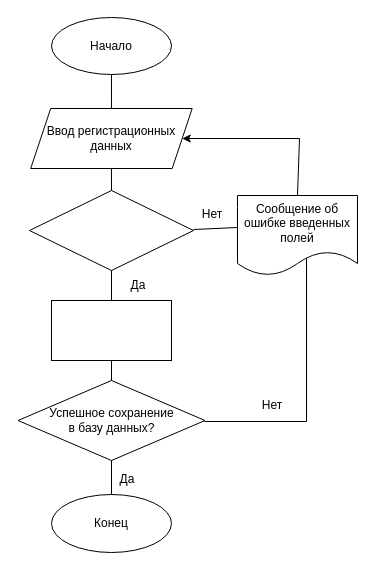
Image size: 375x570. Some labels were removed from this diagram. The box of each missing label's shape, as (x1, y1, x2, y2) in pixels:
Данные введены верно?: (28, 190, 194, 270)
Передача данных для записи в базу данных: (50, 300, 172, 360)
